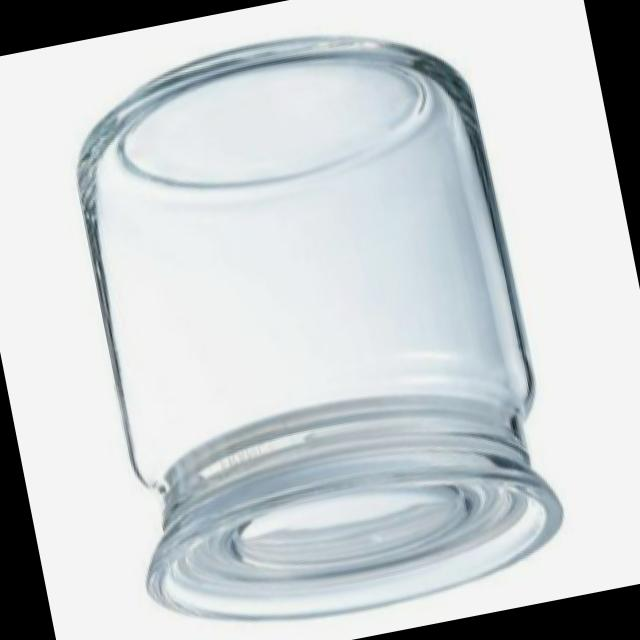ToplesKaca: (46, 4, 577, 640)
